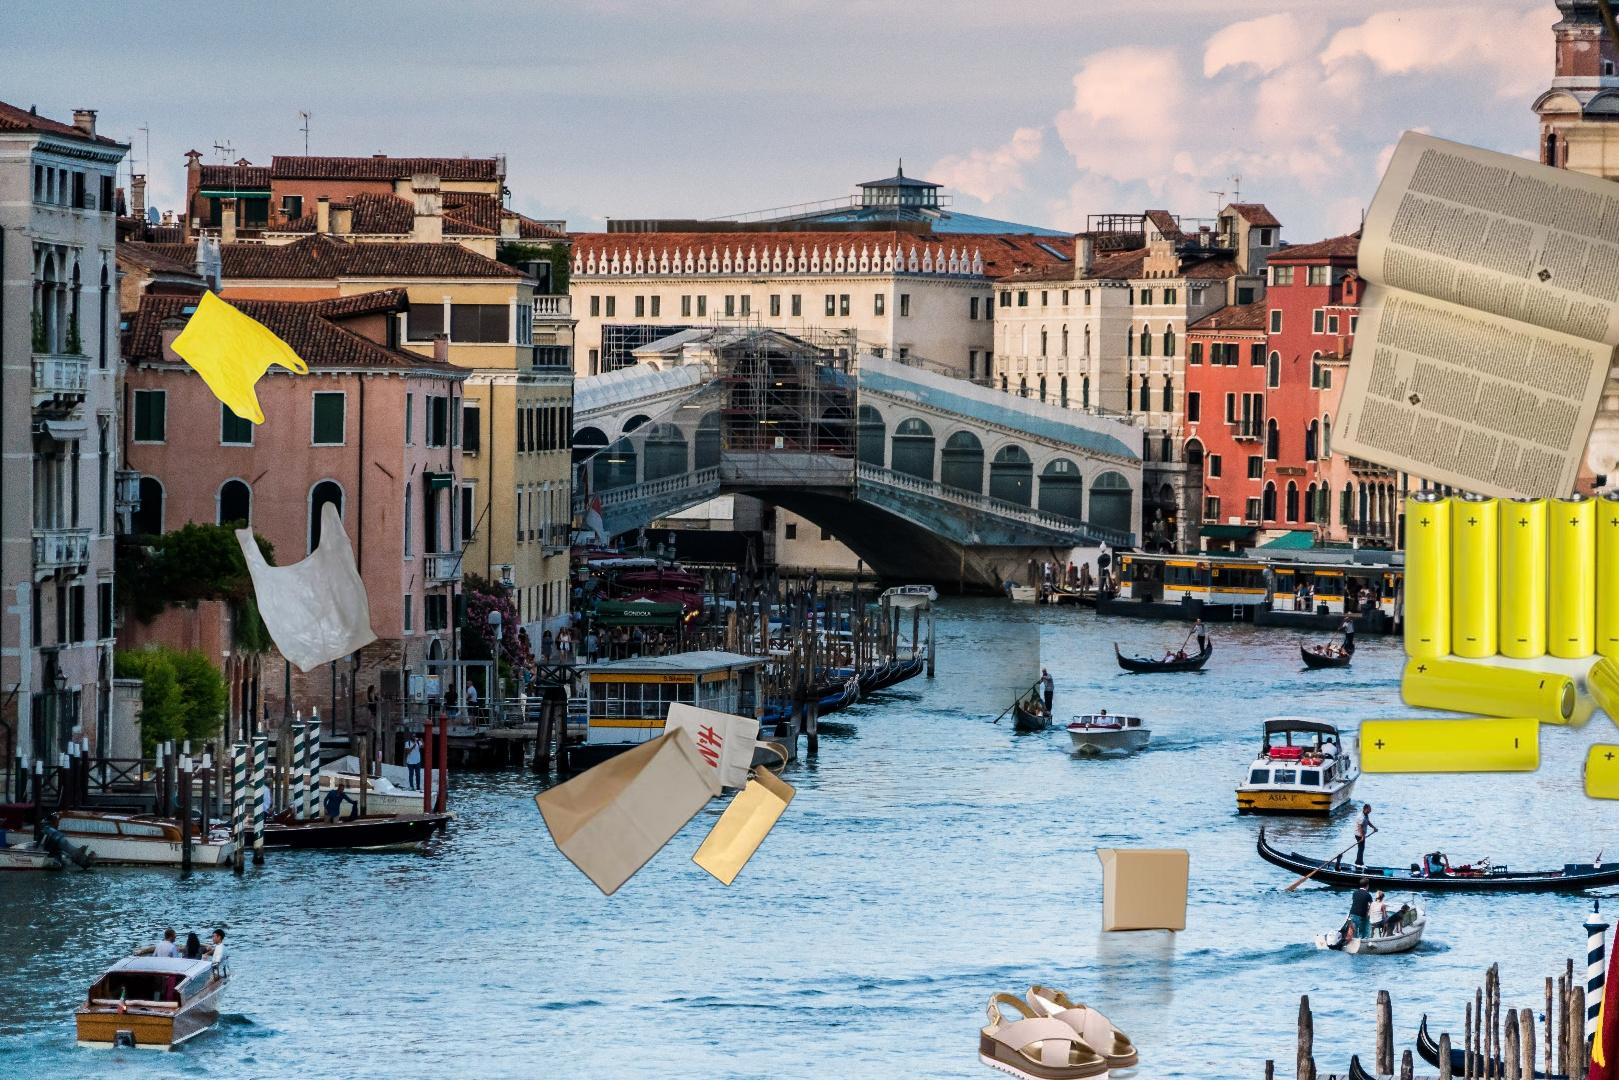battery: (1347, 482, 1619, 817)
glass: (528, 330, 1040, 714)
paper: (1324, 128, 1619, 498)
paper-bag: (532, 698, 798, 898)
plastic-bag: (231, 498, 382, 676), (168, 286, 313, 427)
shoes: (975, 982, 1144, 1080)
trashbox-cardboard: (979, 849, 1193, 1047)
